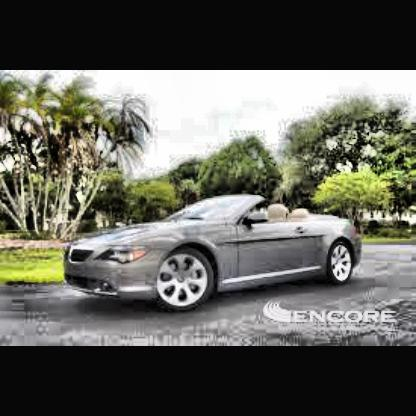BMW 6 Series Convertible 2007: (65, 193, 366, 318)
